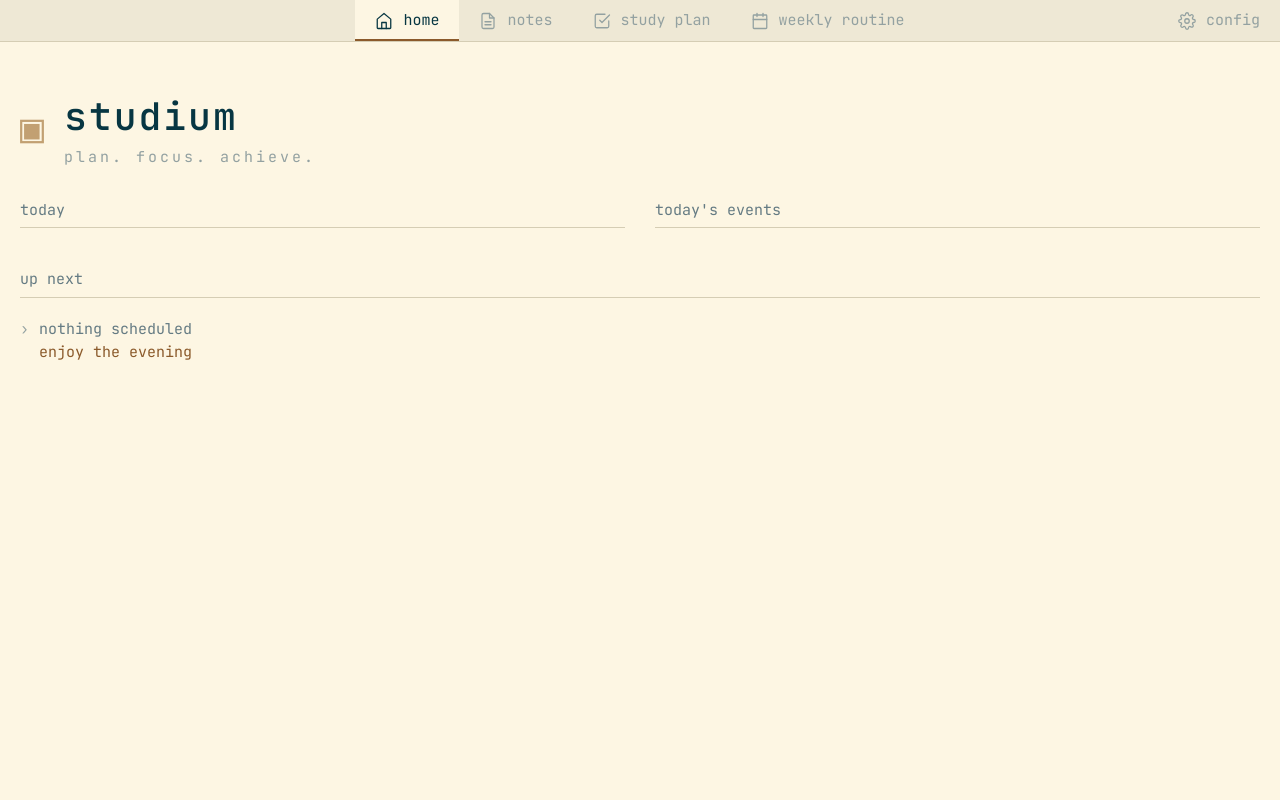
Scenario: App › repositions the bar and hides labels from the customization section
The width and height of the screenshot is (1280, 800).
Click the button "config" at [1219, 20], box x1=1158 y1=0 x2=1279 y2=41
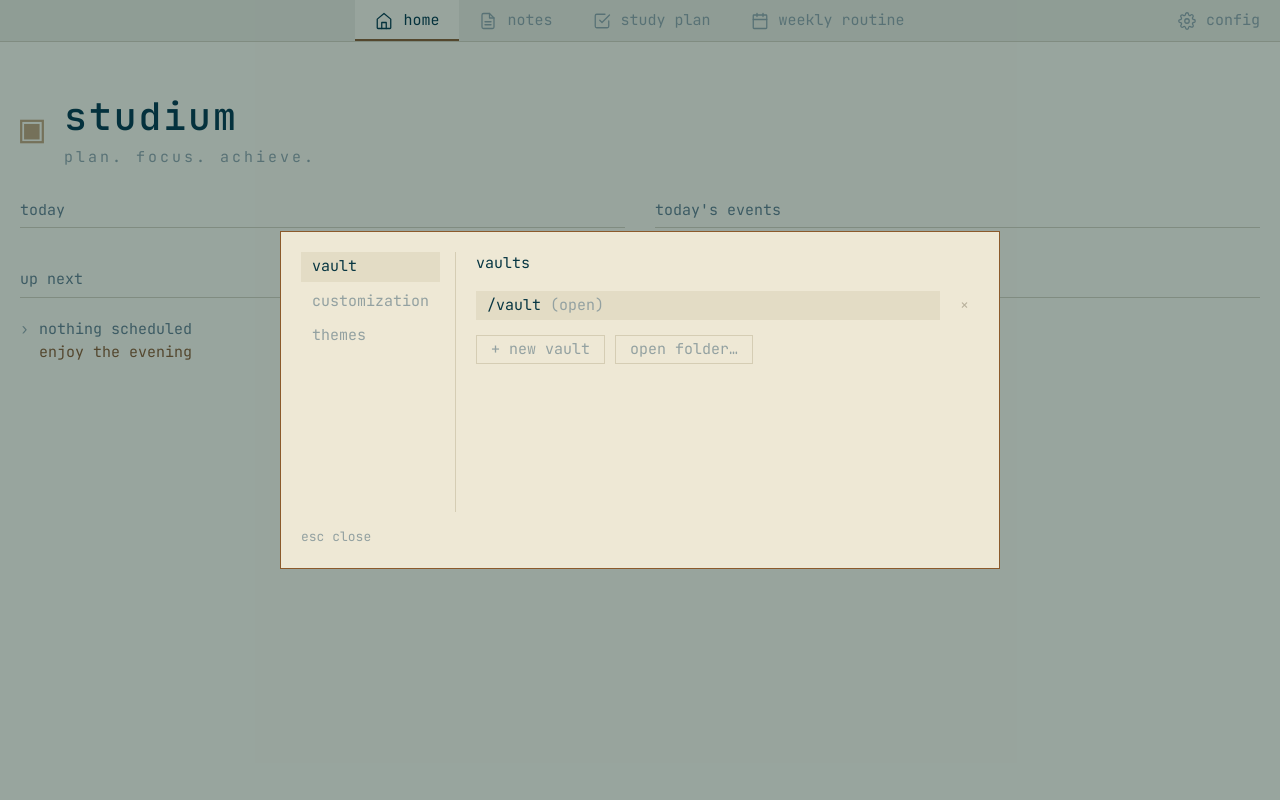
Click the button "customization" at [370, 301], box x1=301 y1=287 x2=440 y2=316
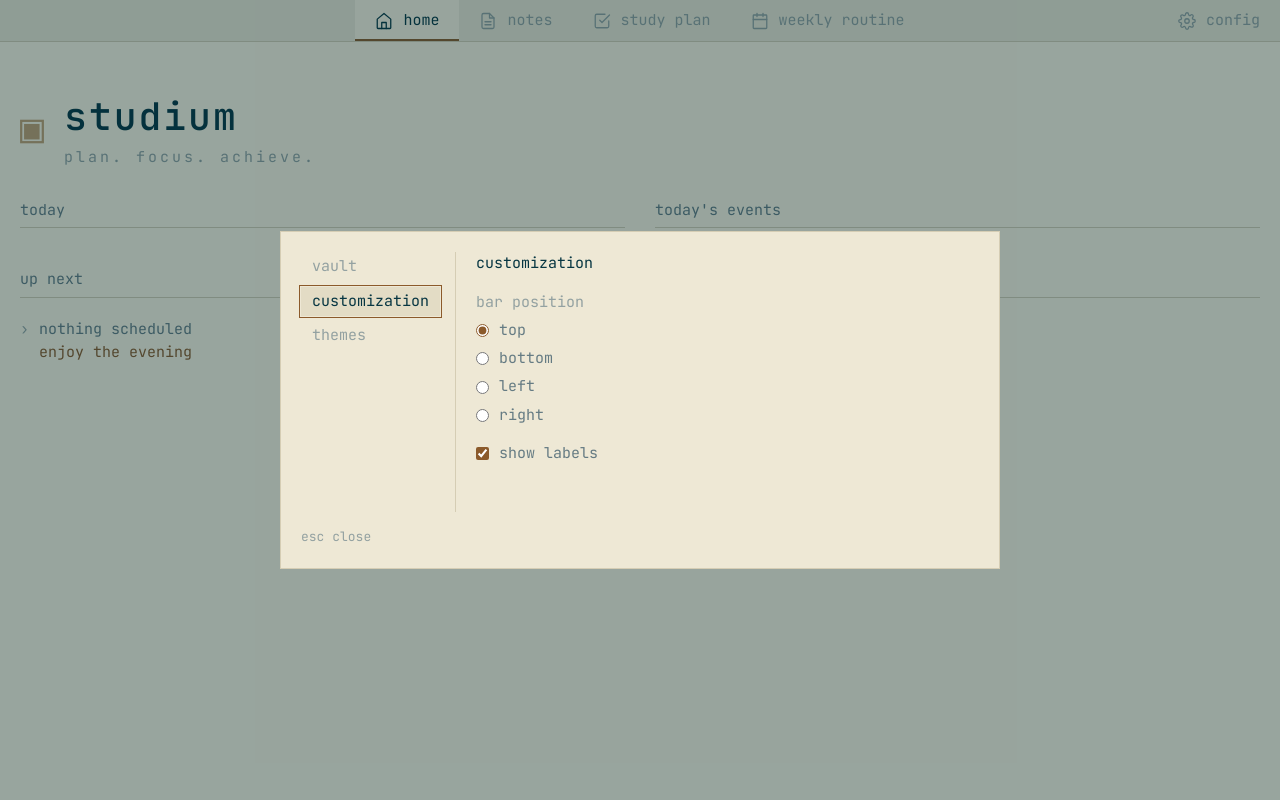
Click the radio button labelled "bottom" at [482, 359], box x1=476 y1=352 x2=489 y2=365
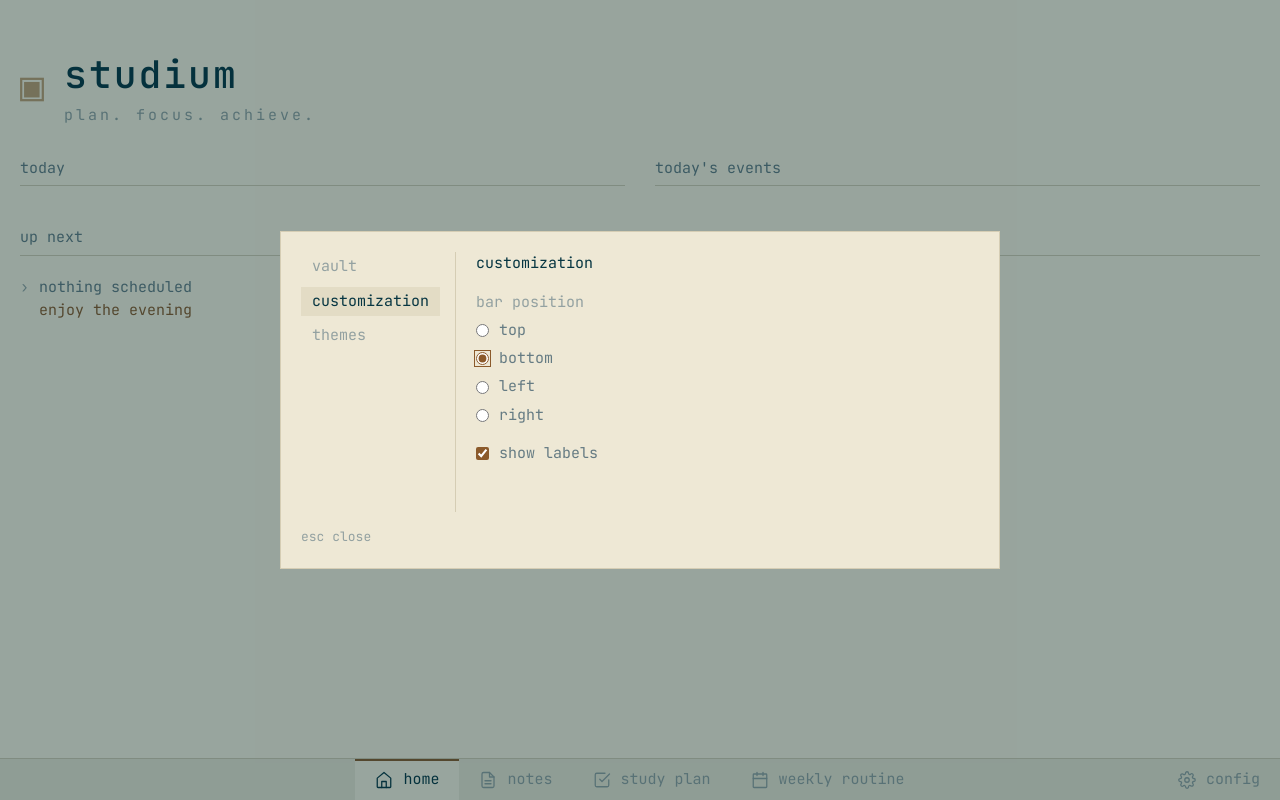
Expected: the label "bottom" is shown, x1=476 y1=348 x2=553 y2=368
Click the checkbox labelled "show labels" at [482, 454], box x1=476 y1=447 x2=489 y2=460
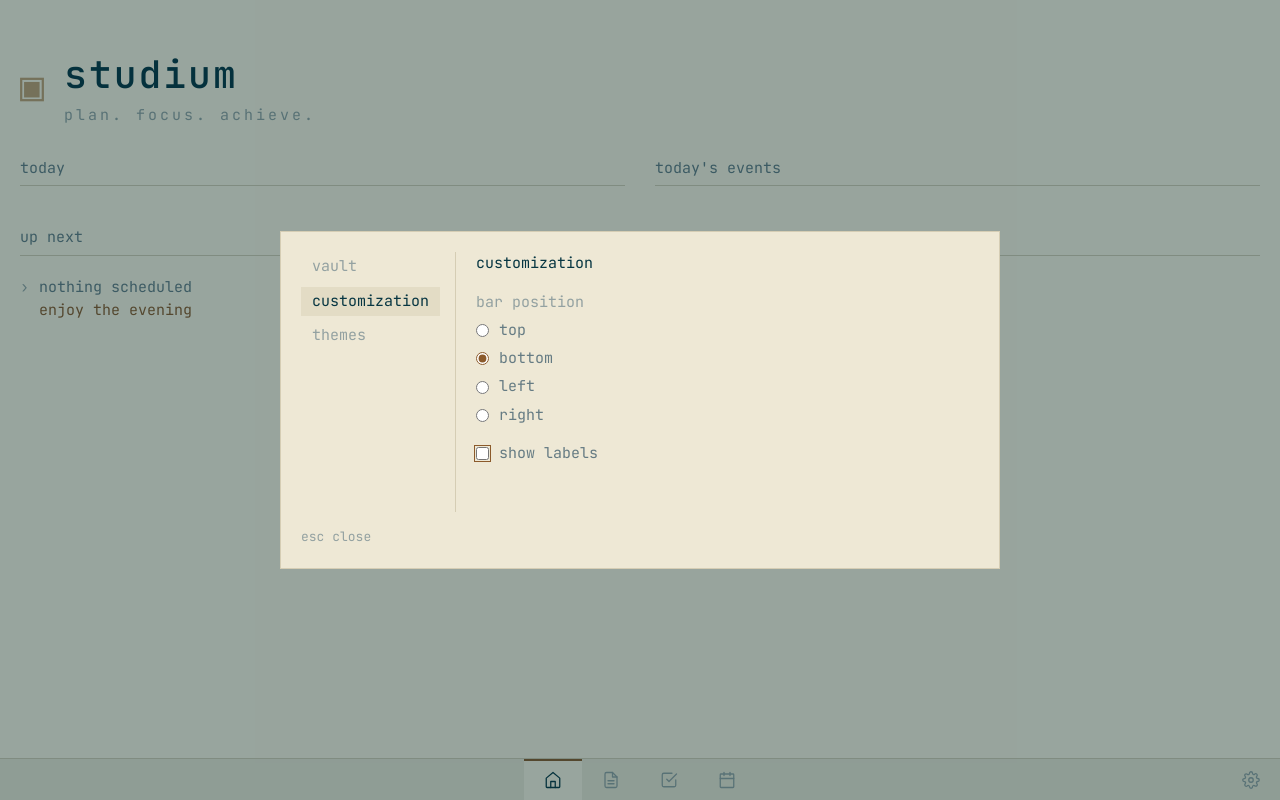
Expected: no elements with class "top-bar-label" are shown
